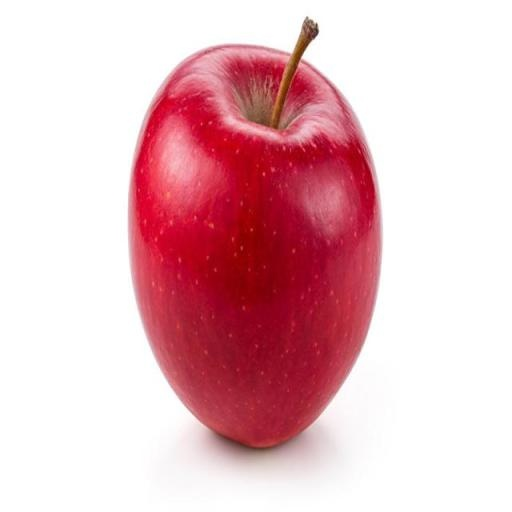fruit: (129, 46, 380, 447)
